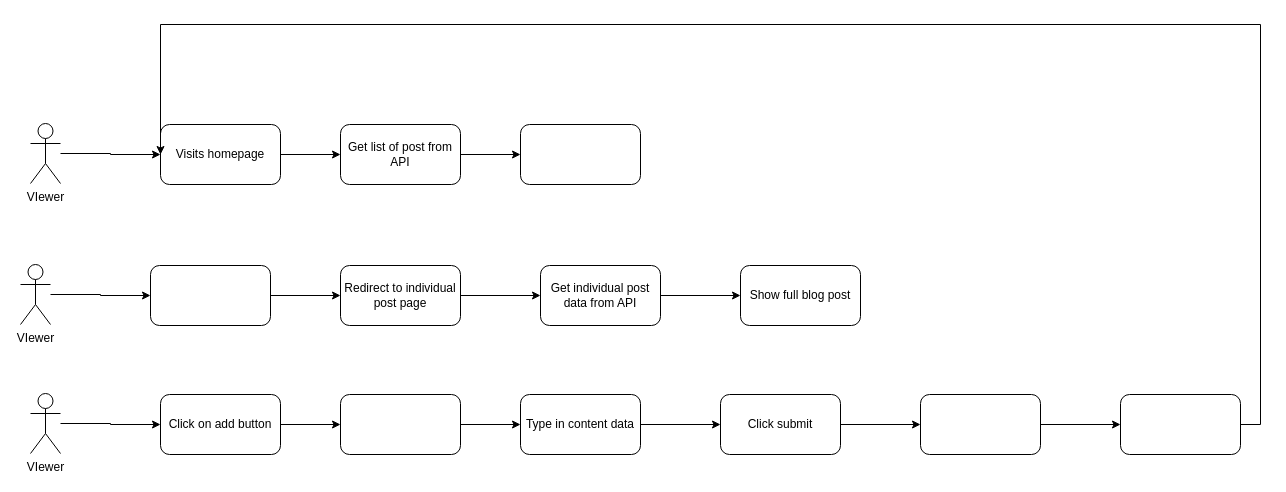
This 1286x492 diagram has some shape labels left out. The shapes that lost their labels are listed below. From the top down, each one's centre as x and y in pixels, then its label:
the point at 580,154: Show list of posts on homepage
the point at 210,295: Click on post
the point at 400,424: Redirect to create form page
the point at 980,424: Add new post to API
the point at 1180,424: Show new post on homepage
